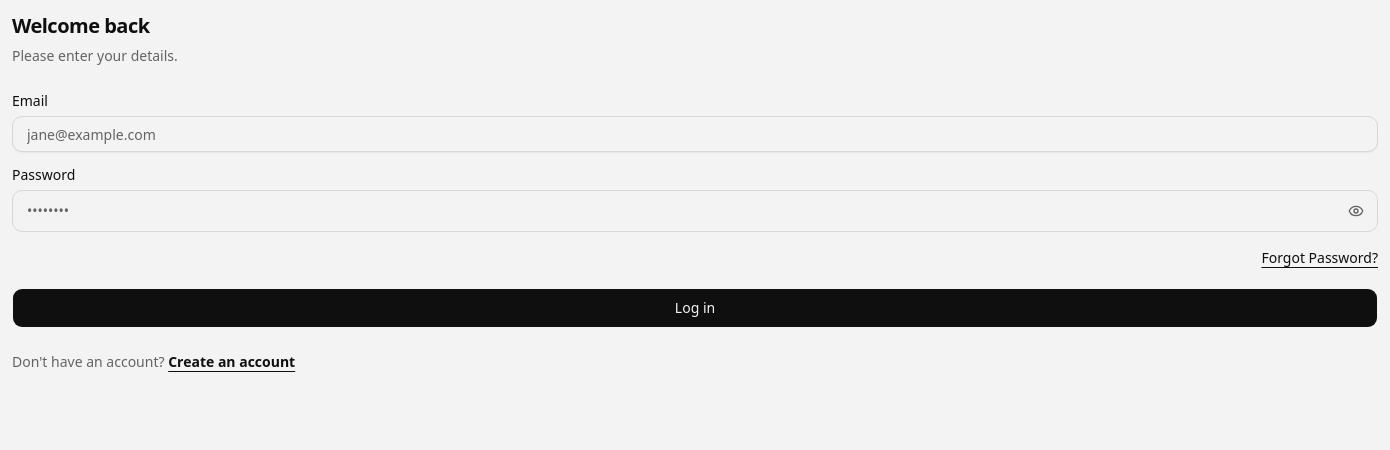
Test: FE-068 · LoginPage (doc 10 §10.22 PG-02; doc 6 PG-02; doc 11 §11.2.18) › Error handling › handles 429: shows rate limit error in root and form remains usable
Type "taylor@example.com" into the field labelled "Email" at {"x": 695, "y": 134}, box [12,116,1378,152]
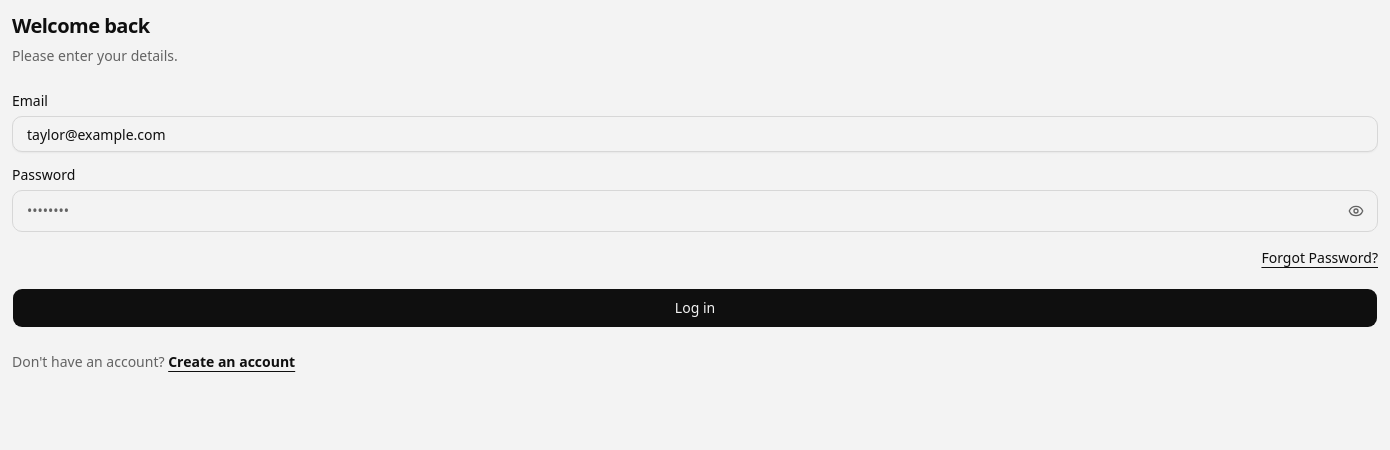
Type "password123" into the password field labelled "Password" at {"x": 695, "y": 211}, box [12,190,1378,232]
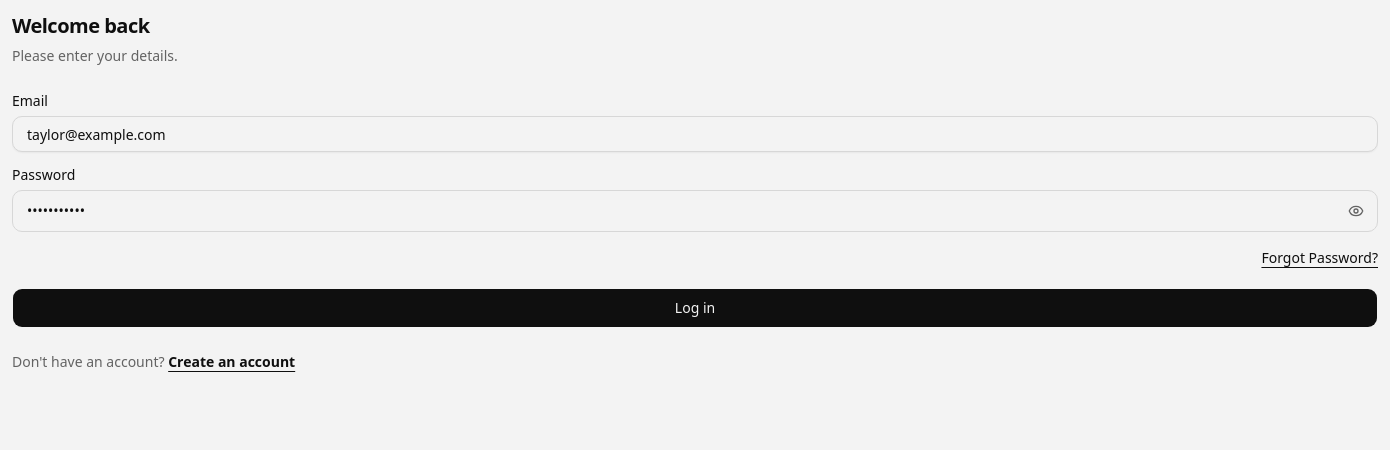
Click the button "Log in" at {"x": 695, "y": 308}, box [12,288,1378,328]
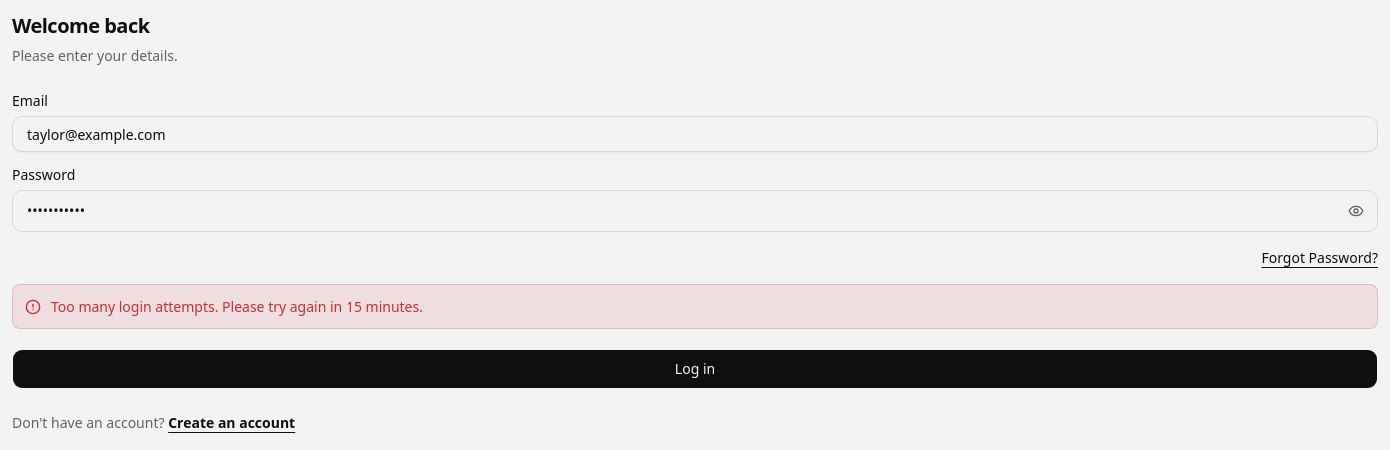
Expected: the field labelled "Email" is enabled, [12,116,1378,152]
Result: the text "Too many login attempts. Please try again in 15 minutes." is shown at [51,297,423,316]
